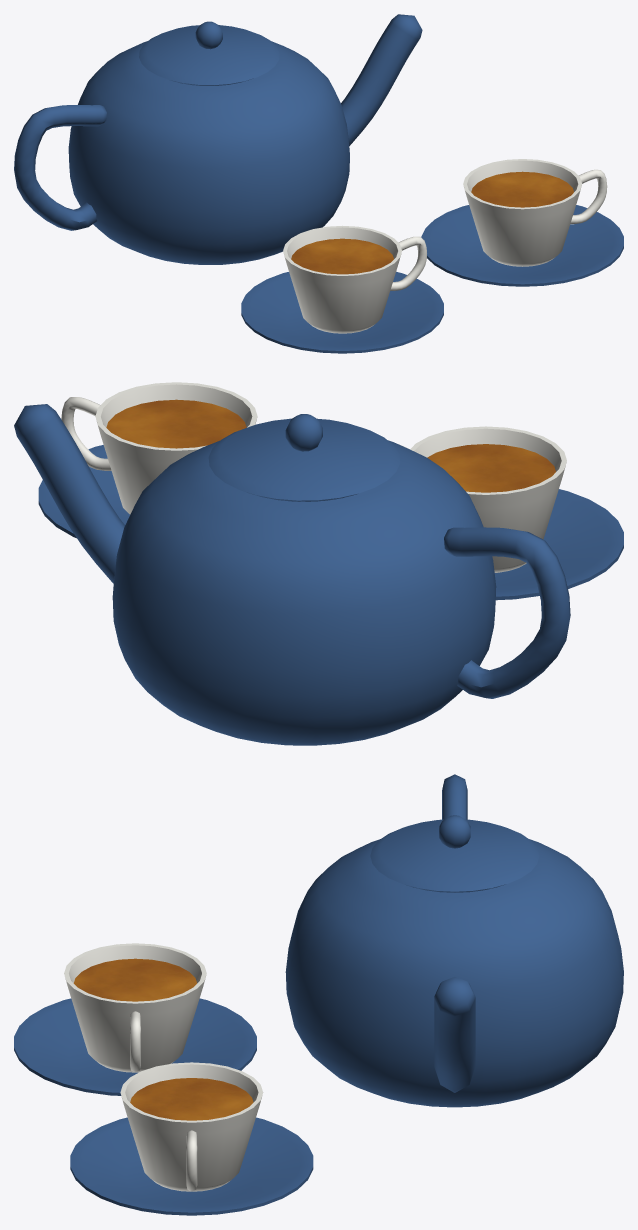
File: drink_tea_pot_and_cups.glb
3 renders of one model, top to bottom at view 1: azimuth 30°, elevation 25°; view 2: azimuth 150°, elevation 25°; view 3: azimuth 270°, elevation 25°, orthographic. The views are drawn at different scales.
Visible parts, largest first — view 1: drink_tea_pot_and_cups; view 2: drink_tea_pot_and_cups; view 3: drink_tea_pot_and_cups.
Part boxes in pixels (<box>): drink_tea_pot_and_cups: <box>14,14,623,353</box>; drink_tea_pot_and_cups: <box>14,382,623,745</box>; drink_tea_pot_and_cups: <box>14,774,623,1215</box>.
Size of the model in its own units: 0.3584 by 0.1475 by 0.3246.
4 materials, 1 textured.
